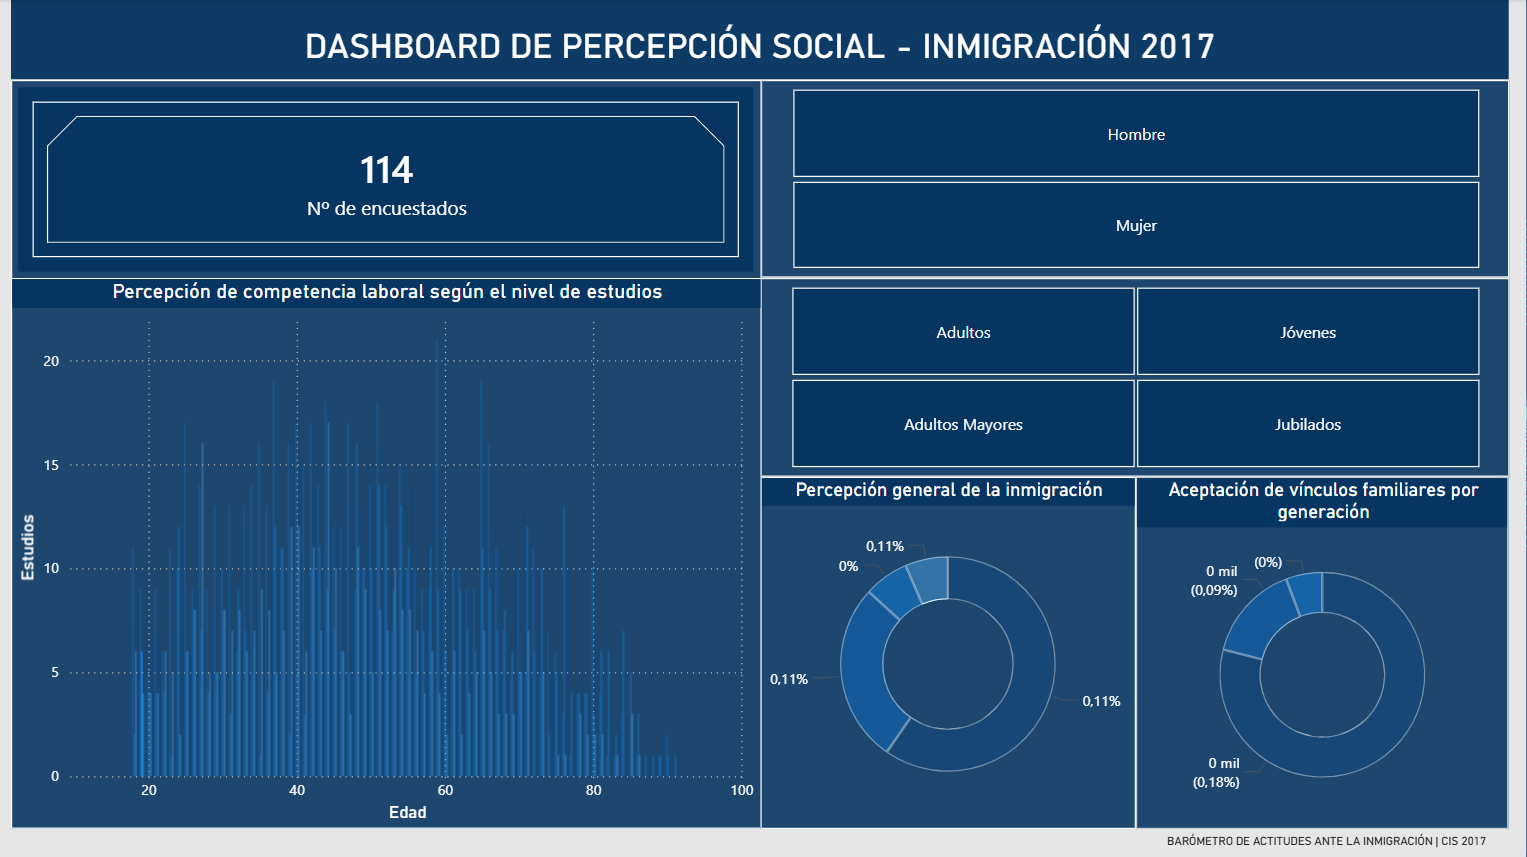

This screenshot's page, from the dashboard's own definition file:
{"tool":"powerbi","page":{"name":"Página 1","canvas":[1280,720],"ordinal":0},"visuals":[{"type":"slicer","fields":{"Values":["proyecto_inmigracion_final (2).Sexo"]},"box":[640.2,67.4,625,165],"z":0},{"type":"slicer","fields":{"Values":["proyecto_inmigracion_final (2).Tramo_edad"]},"box":[639.3,233.2,626,165.8],"z":1000},{"type":"cardVisual","fields":{"Data":["Sum(proyecto_inmigracion_final (2).Edad)"]},"box":[13.3,67.4,626.9,166.7],"z":2000},{"type":"donutChart","title":"Percepción general de la inmigración","fields":{"Category":["proyecto_inmigracion_final (2).Valoracion_General"],"Y":["CountNonNull(proyecto_inmigracion_final (2).Edad)"]},"box":[639.3,399,313.9,294.4],"z":3000},{"type":"clusteredColumnChart","title":"Percepción de competencia laboral según el nivel de estudios","fields":{"Y":["CountNonNull(proyecto_inmigracion_final (2).Estudios)"],"Category":["proyecto_inmigracion_final (2).Edad"],"Series":["proyecto_inmigracion_final (2).Quitan_Trabajo"]},"box":[13.3,233.2,626.9,460.2],"z":4000},{"type":"textbox","box":[13.3,0,1251.1,66.5],"z":5000},{"type":"donutChart","title":"Aceptación de vínculos familiares por generación","fields":{"Category":["proyecto_inmigracion_final (2).Matrimonio_Hijo.1"],"Y":["CountNonNull(proyecto_inmigracion_final (2).Edad)"]},"box":[953.2,399,311.2,294.4],"z":6000},{"type":"textbox","box":[973.6,687.3,290.9,32.7],"z":7000}]}

Visuals, with their boxes in screenshot pixels (x1, y1, x2, y2), scaled from the page's 1280x720 canvas onto the 1527x857 screenshot:
slicer - proyecto_inmigracion_final (2).Sexo: crop(764, 80, 1509, 277)
slicer - proyecto_inmigracion_final (2).Tramo_edad: crop(763, 278, 1509, 475)
cardVisual - Sum(proyecto_inmigracion_final (2).Edad): crop(16, 80, 764, 279)
"Percepción general de la inmigración" donutChart: crop(763, 475, 1137, 825)
"Percepción de competencia laboral según el nivel de estudios" clusteredColumnChart: crop(16, 278, 764, 825)
textbox: crop(16, 0, 1508, 79)
"Aceptación de vínculos familiares por generación" donutChart: crop(1137, 475, 1508, 825)
textbox: crop(1161, 818, 1509, 856)
